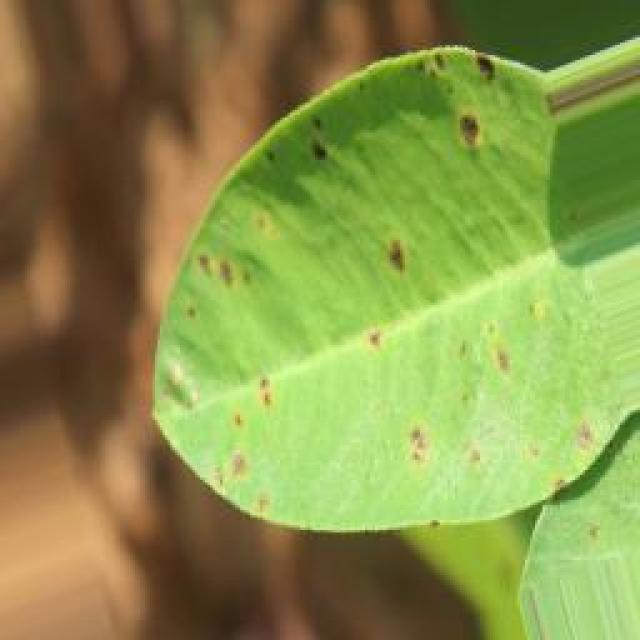Sigatoka: (444, 280, 620, 506), (321, 361, 447, 500), (374, 31, 500, 148), (154, 376, 266, 503), (168, 215, 287, 321), (219, 336, 315, 435), (260, 92, 352, 162), (348, 206, 417, 292), (329, 296, 388, 370)
